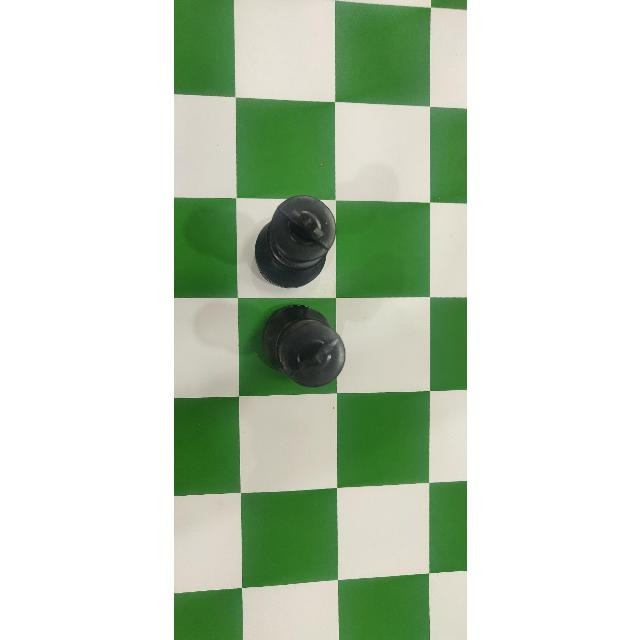black-king: (247, 313, 347, 396), (254, 192, 333, 293)
